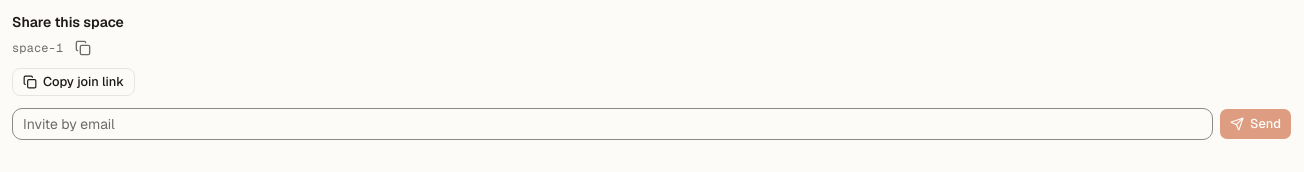
it: SpaceSharingSection invite by email › keeps Send disabled until an email is typed
Expected: the button "Send" is disabled, [1219,108,1292,140]
Type " a@b.co " into the field labelled "Invite by email" at (612, 124), box [12,108,1213,140]
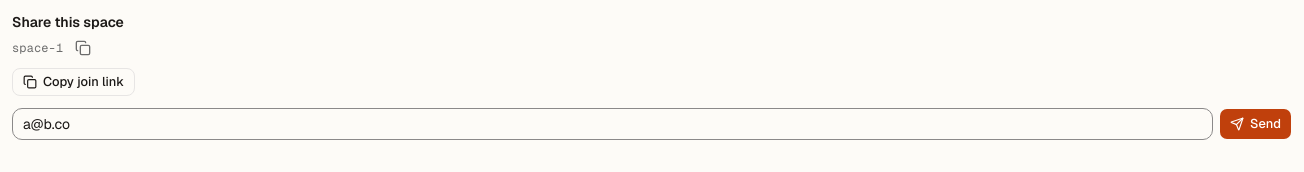
Now the button "Send" is enabled, box [1219,108,1292,140]
